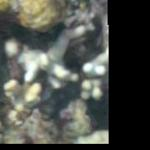alive: (1, 1, 108, 143)
